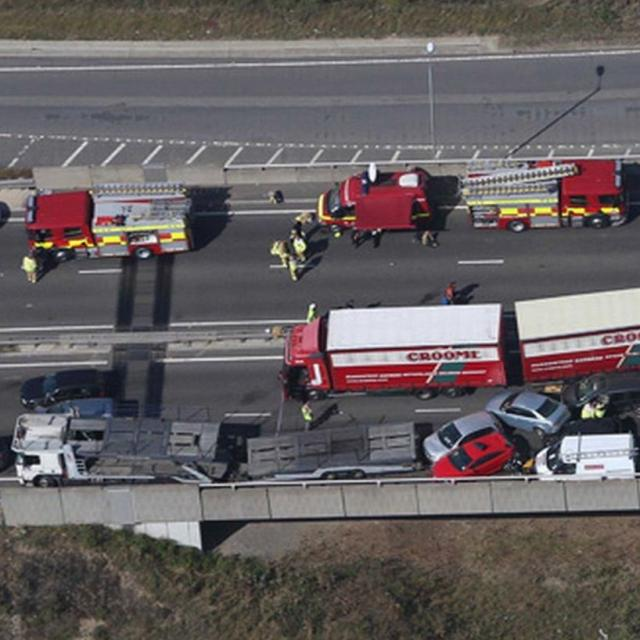traffic_incident: (19, 387, 639, 480)
